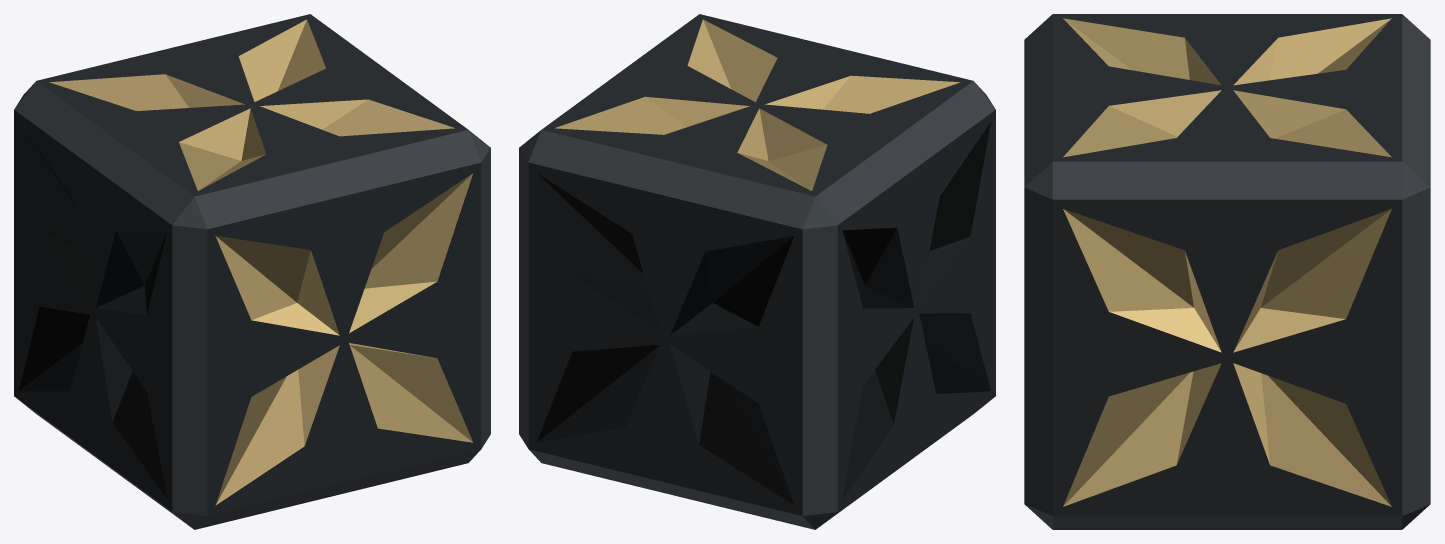
Rendered from vitruvium-die.glb.
The picture shows the model from 3 angles, left to right: view 1: azimuth 30°, elevation 25°; view 2: azimuth 150°, elevation 25°; view 3: azimuth 270°, elevation 25°; orthographic projection. The views are drawn at different scales.
Parts seen in each view (by area): view 1: Face_2_surface_with_true_cutouts (×2), Single_clean_12_edge_bevel_shell, Face_0_surface_with_true_cutouts, Painted_rhomboid_cavity_2 (×2), Painted_rhomboid_cavity_4 (×2), Painted_rhomboid_cavity_1 (×2), Painted_rhomboid_cavity_3 (×2), Dark_rhomboid_cavity_2, Dark_rhomboid_cavity_4, Dark_rhomboid_cavity_3, Dark_rhomboid_cavity_1; view 2: Face_0_surface_with_true_cutouts (×2), Single_clean_12_edge_bevel_shell, Face_2_surface_with_true_cutouts, Dark_rhomboid_cavity_1 (×2), Dark_rhomboid_cavity_3 (×2), Dark_rhomboid_cavity_2 (×2), Dark_rhomboid_cavity_4 (×2), Painted_rhomboid_cavity_1, Painted_rhomboid_cavity_3, Painted_rhomboid_cavity_2, Painted_rhomboid_cavity_4; view 3: Face_2_surface_with_true_cutouts (×2), Single_clean_12_edge_bevel_shell, Painted_rhomboid_cavity_1 (×2), Painted_rhomboid_cavity_2 (×2), Painted_rhomboid_cavity_3 (×2), Painted_rhomboid_cavity_4 (×2).
Part boxes in pixels (x1,y1,x2,y2): Face_2_surface_with_true_cutouts (×2): (36,14,481,515); Single_clean_12_edge_bevel_shell: (14,81,490,529); Face_0_surface_with_true_cutouts: (14,110,172,511); Painted_rhomboid_cavity_2 (×2): (50,74,339,335); Painted_rhomboid_cavity_4 (×2): (260,99,473,442); Painted_rhomboid_cavity_1 (×2): (238,19,473,333); Painted_rhomboid_cavity_3 (×2): (179,108,339,505); Dark_rhomboid_cavity_2: (18,121,90,303); Dark_rhomboid_cavity_4: (96,318,167,499); Dark_rhomboid_cavity_3: (19,306,90,391); Dark_rhomboid_cavity_1: (96,230,167,314); Face_0_surface_with_true_cutouts (×2): (528,110,995,515); Single_clean_12_edge_bevel_shell: (519,81,995,529); Face_2_surface_with_true_cutouts: (541,14,973,196); Dark_rhomboid_cavity_1 (×2): (670,121,991,335); Dark_rhomboid_cavity_3 (×2): (536,318,913,499); Dark_rhomboid_cavity_2 (×2): (536,173,913,333); Dark_rhomboid_cavity_4 (×2): (670,313,990,505); Painted_rhomboid_cavity_1: (555,96,749,134); Painted_rhomboid_cavity_3: (765,75,959,113); Painted_rhomboid_cavity_2: (737,108,827,190); Painted_rhomboid_cavity_4: (687,19,777,101); Face_2_surface_with_true_cutouts (×2): (1052,14,1402,516); Single_clean_12_edge_bevel_shell: (1024,14,1430,529); Painted_rhomboid_cavity_1 (×2): (1233,90,1391,352); Painted_rhomboid_cavity_2 (×2): (1063,18,1391,352); Painted_rhomboid_cavity_3 (×2): (1063,18,1221,506); Painted_rhomboid_cavity_4 (×2): (1063,90,1391,506).
Bounding box in the file's own units: 1 × 1 × 1.
